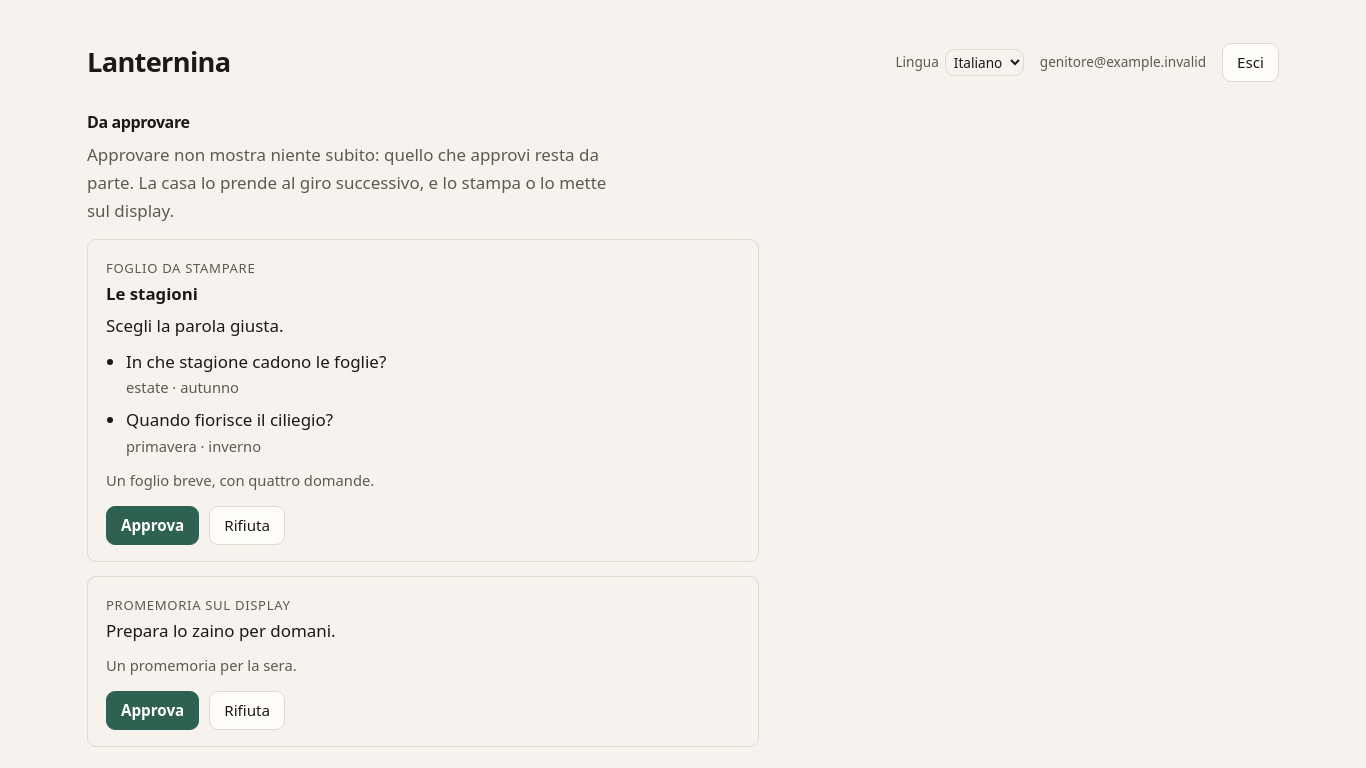
Test: to approve › disables both buttons while the decision is in flight
Expected: the heading "Le stagioni" is shown, [106,282,198,305]
Click the button "Approva" below "Un foglio breve, con quattro domande." at (153, 526), box [106,506,199,545]
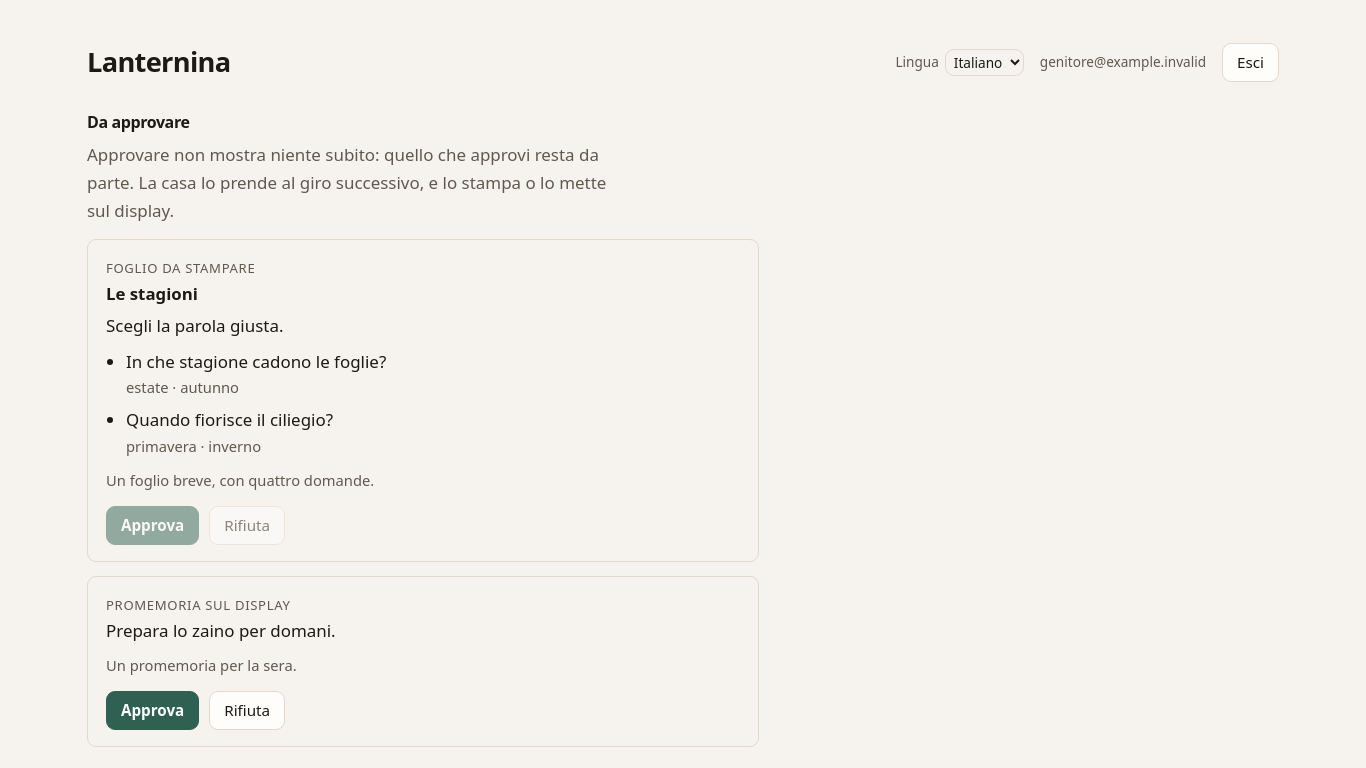
Expected: the button "Approva" below "Un foglio breve, con quattro domande." is disabled, [106,506,199,545]
Expected: the button "Rifiuta" below "Un foglio breve, con quattro domande." is disabled, [209,506,285,545]
